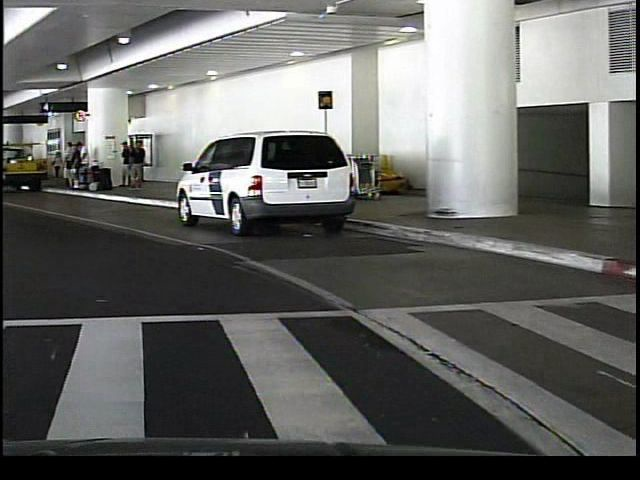person: (58, 139, 73, 191), (132, 139, 145, 189)
